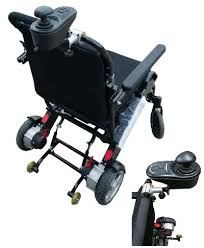wheelchair: (11, 11, 165, 211)
